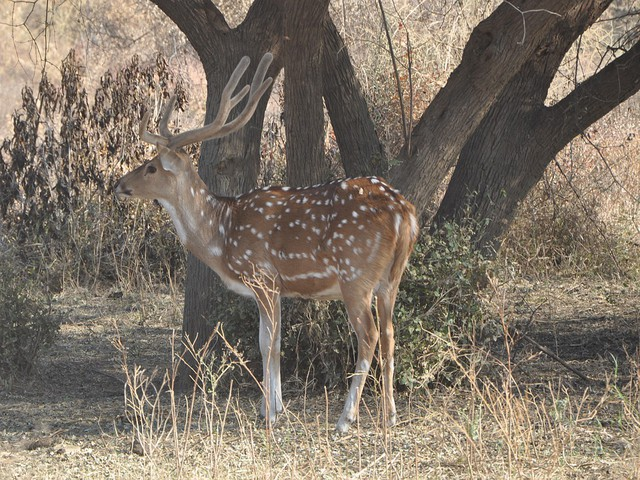deer: (105, 46, 410, 427)
